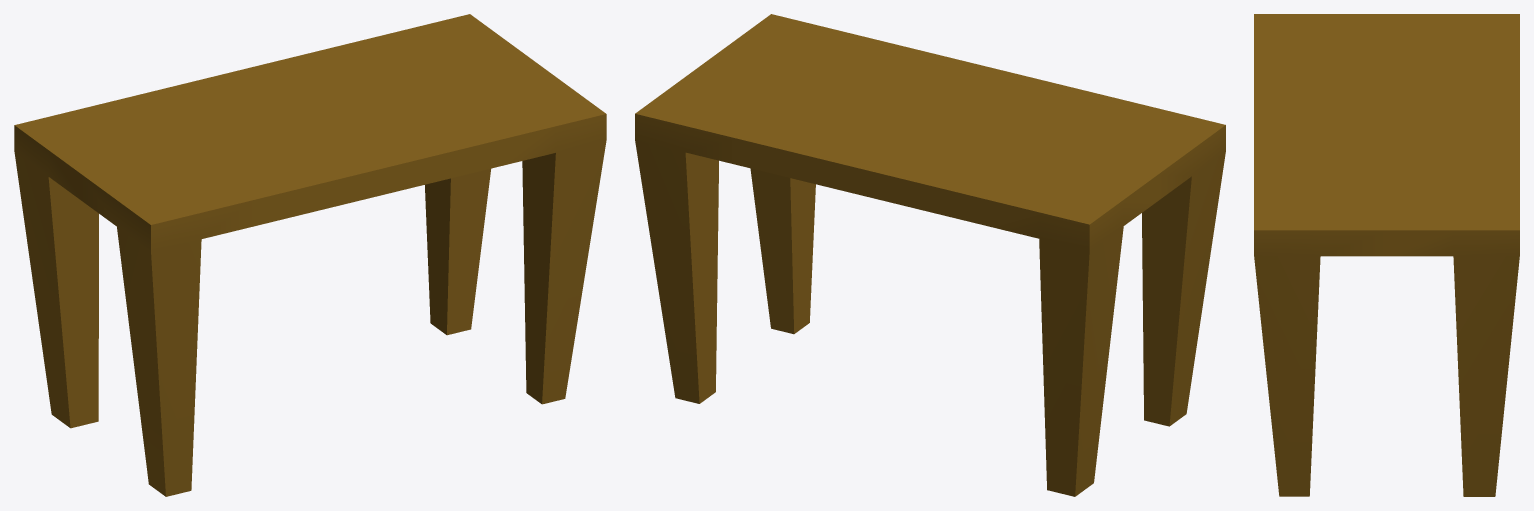
File: computer table.fbx
3 renders of one model, left to right at view 1: azimuth 30°, elevation 25°; view 2: azimuth 150°, elevation 25°; view 3: azimuth 270°, elevation 25°, orthographic. The views are drawn at different scales.
Parts seen in each view (by area): view 1: pCube1; view 2: pCube1; view 3: pCube1.
Part boxes in pixels (bbox=[...]): pCube1: bbox=[14, 14, 606, 496]; pCube1: bbox=[635, 14, 1225, 496]; pCube1: bbox=[1254, 14, 1519, 496].
Size of the model in its own units: 457 by 275 by 237.
